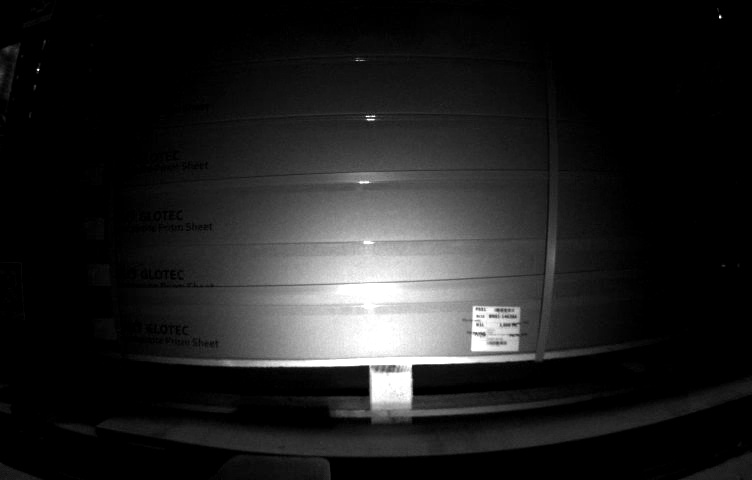True Barcode: (474, 306, 519, 353)
